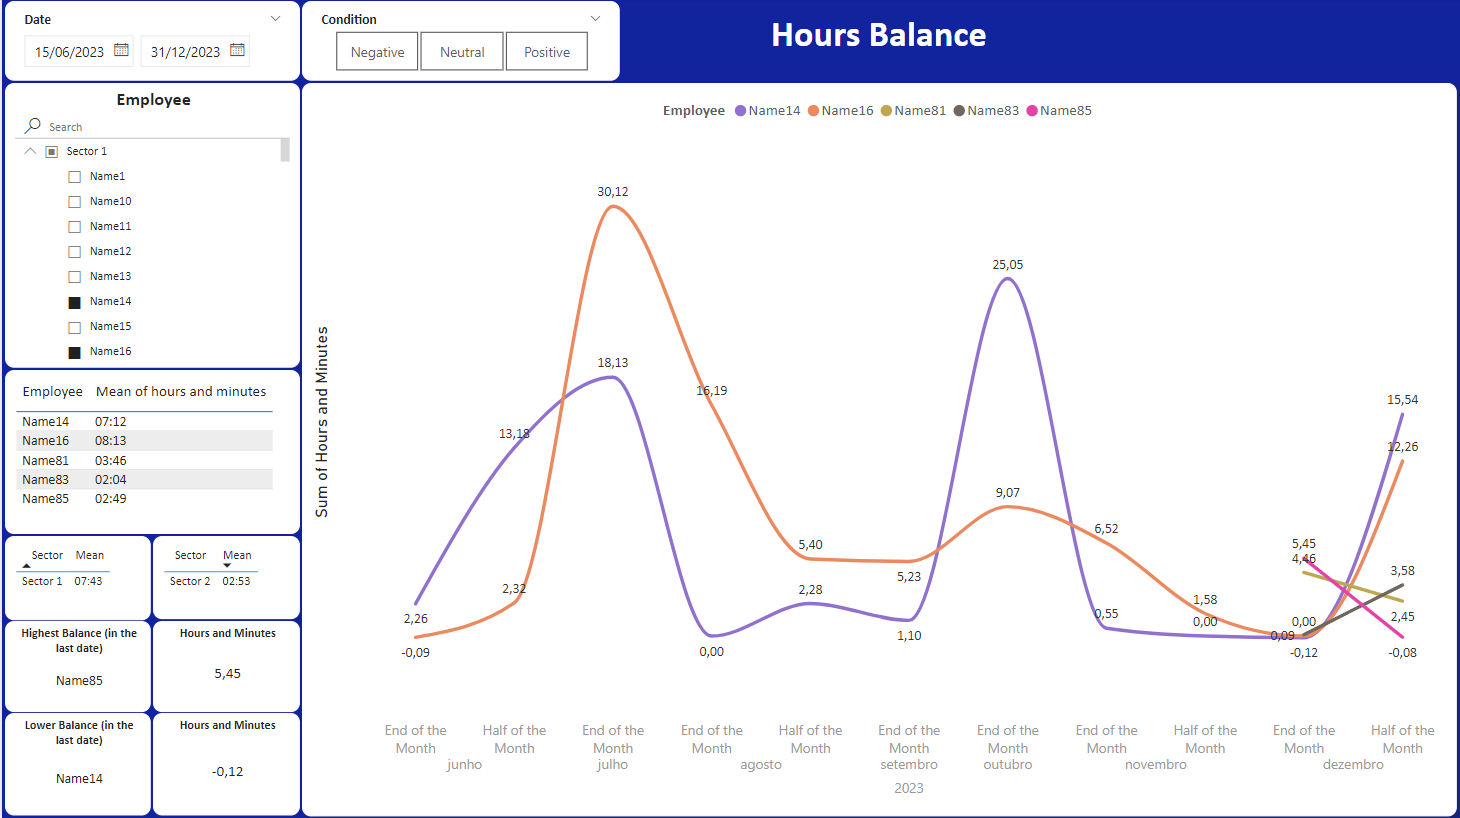

This screenshot's page, from the dashboard's own definition file:
{"tool":"powerbi","page":{"name":"Hours Balance","canvas":[1280,720],"ordinal":0},"visuals":[{"type":"lineChart","title":"Banco de Horas: Horas e Minutos","fields":{"Category":["table.Date.Variation.Hierarquia de datas.Ano","table.Date.Variation.Hierarquia de datas.Mês","table.Period"],"Y":["Sum(table.Hours and Minutes)"],"Series":["table.Employee"]},"box":[263.4,74.6,1014,643.6],"z":0},{"type":"slicer","title":"Employee","fields":{"Values":["table.Sector","table.Employee"]},"box":[2.6,74.6,259,250.2],"z":1000},{"type":"slicer","fields":{"Values":["table.Date"]},"box":[2.6,2.6,259,70.2],"z":2000},{"type":"textbox","box":[547,7,446,60.6],"z":3000},{"type":"tableEx","title":"Colaborador(a)","fields":{"Values":["table.Employee","table.Mean of hours and minutes"]},"box":[2.6,326.6,259,144],"z":4000},{"type":"tableEx","title":"Colaborador(a)","fields":{"Values":["table.Sector","table.Mean of hours and minutes"]},"box":[132.3,472.7,129.4,72.9],"z":5000},{"type":"tableEx","title":"Colaborador(a)","fields":{"Values":["table.Sector","table.Mean of hours and minutes"]},"box":[2.6,472,128,74],"z":6000},{"type":"card","title":"Highest Balance (in the last date)","fields":{"Values":["table.Top Employee am Letzten Datum"]},"box":[2.9,546.6,128.4,79.8],"z":7000},{"type":"card","title":"Hours and Minutes","fields":{"Values":["table.MaXx Stunden und Minuten pro Mitarbeiter am letzten Datum"]},"box":[132.3,546.6,129.4,79.8],"z":9000},{"type":"card","title":"Lower Balance (in the last date)","fields":{"Values":["table.MinN Mitarbeiter am letzten Datum"]},"box":[2.6,627.8,128.2,90.4],"z":10000},{"type":"card","title":"Hours and Minutes","fields":{"Values":["table.Min Stunden und Minuten pro Mitarbeiter am letzten Datum"]},"box":[132.6,627.8,129.1,90.4],"z":11000},{"type":"slicer","fields":{"Values":["table.PositivNegativ"]},"box":[263.4,2.6,279.2,70.2],"z":12000}]}

Visuals, with their boxes in screenshot pixels (x1, y1, x2, y2), scaled from the page's 1280x720 canvas onto the 1460x818 screenshot:
"Banco de Horas: Horas e Minutos" lineChart: l=300, t=85, r=1457, b=816
"Employee" slicer: l=3, t=85, r=298, b=369
slicer - table.Date: l=3, t=3, r=298, b=83
textbox: l=624, t=8, r=1133, b=77
"Colaborador(a)" tableEx: l=3, t=371, r=298, b=535
"Colaborador(a)" tableEx: l=151, t=537, r=299, b=620
"Colaborador(a)" tableEx: l=3, t=536, r=149, b=620
"Highest Balance (in the last date)" card: l=3, t=621, r=150, b=712
"Hours and Minutes" card: l=151, t=621, r=299, b=712
"Lower Balance (in the last date)" card: l=3, t=713, r=149, b=816
"Hours and Minutes" card: l=151, t=713, r=299, b=816
slicer - table.PositivNegativ: l=300, t=3, r=619, b=83
